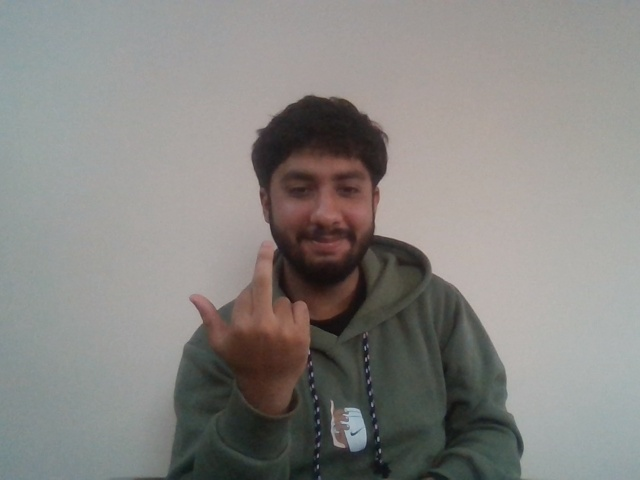Hello: (189, 235, 318, 388)
